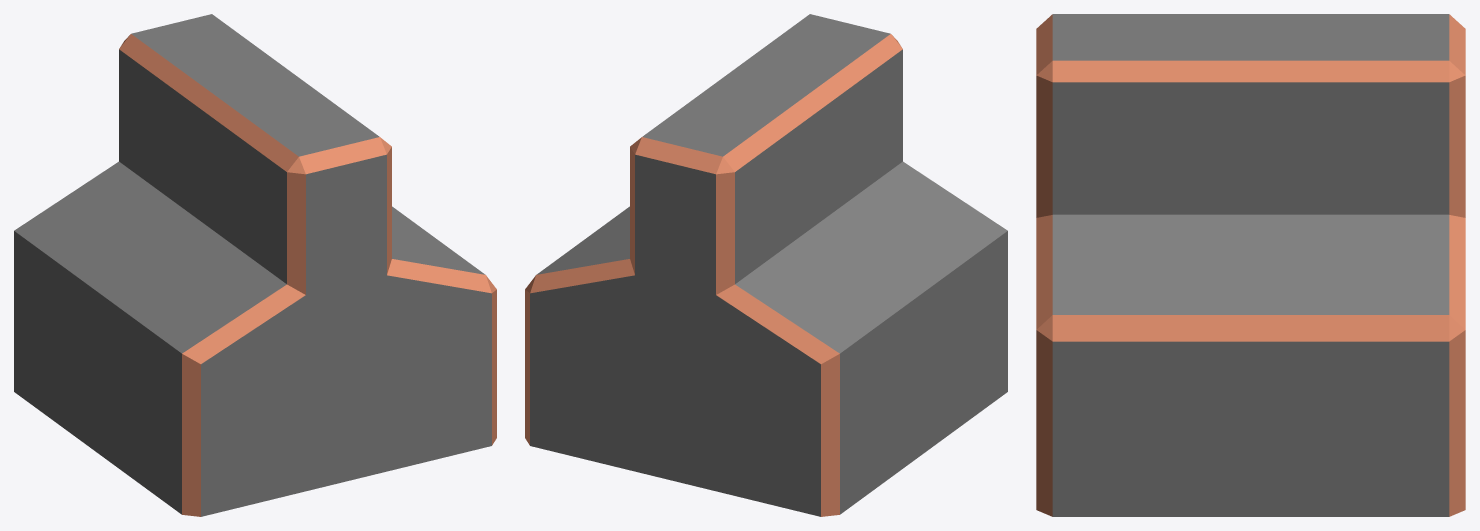
Rendered from miner.glb.
3 views of the same model, side by side, from view 1: azimuth 30°, elevation 25°; view 2: azimuth 150°, elevation 25°; view 3: azimuth 270°, elevation 25° (orthographic). The views are drawn at different scales.
Parts seen in each view (by area): view 1: miner; view 2: miner; view 3: miner.
Part boxes in pixels (left/top/right/bottom): miner: left=14, top=14, right=496, bottom=516; miner: left=525, top=14, right=1007, bottom=516; miner: left=1036, top=14, right=1465, bottom=516.
Bounding box in the file's own units: 100 × 100 × 100.
